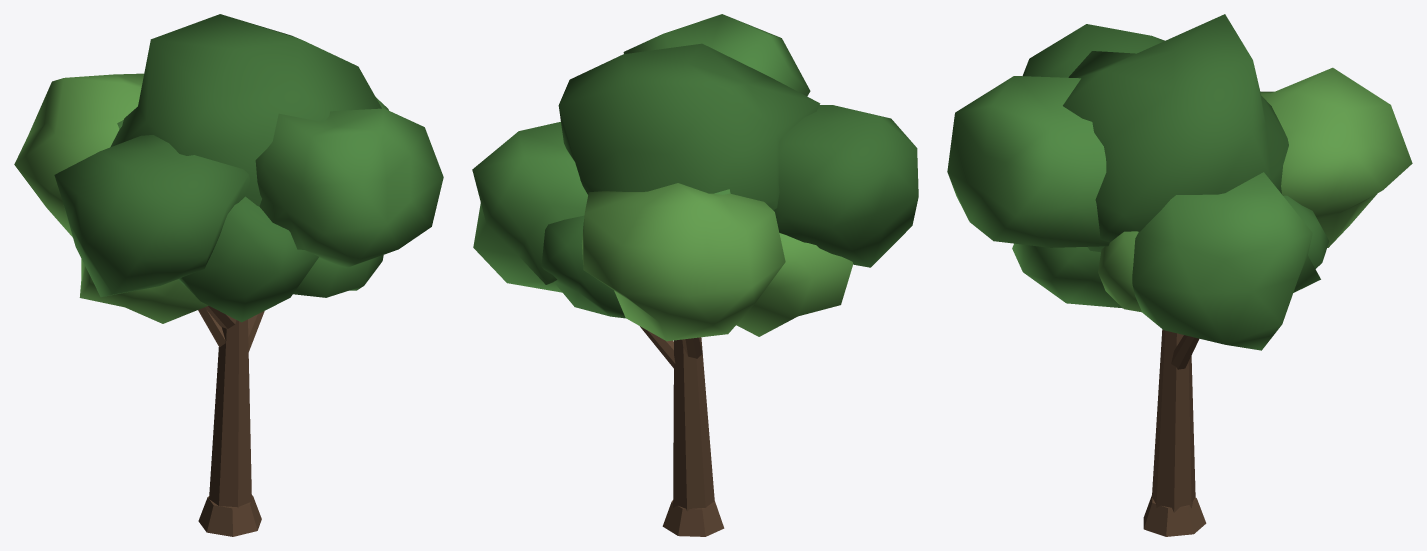
Rendered from tree.glb.
3 renders of one model, left to right at view 1: azimuth 30°, elevation 25°; view 2: azimuth 150°, elevation 25°; view 3: azimuth 270°, elevation 25°, orthographic. The views are drawn at different scales.
Parts seen in each view (by area): view 1: leaves_0, leaves_4, leaves_3, leaves_2, leaves_9, trunk, leaves_8, leaves_10, flare; view 2: leaves_0, leaves_2, leaves_3, leaves_1, leaves_8, trunk, leaves_4, leaves_6, flare; view 3: leaves_0, leaves_1, leaves_4, leaves_2, trunk, leaves_10, leaves_3, leaves_5, flare, leaves_6, limb_0.
Part boxes in pixels (left/top/right/bottom): leaves_0: left=110, top=14, right=381, bottom=206; leaves_4: left=255, top=108, right=443, bottom=268; leaves_3: left=54, top=135, right=250, bottom=297; leaves_2: left=14, top=73, right=143, bottom=237; leaves_9: left=178, top=196, right=318, bottom=322; trunk: left=209, top=319, right=251, bottom=507; leaves_8: left=79, top=259, right=208, bottom=323; leaves_10: left=293, top=255, right=383, bottom=297; flare: left=198, top=495, right=261, bottom=536; leaves_0: left=558, top=43, right=820, bottom=210; leaves_2: left=582, top=183, right=785, bottom=341; leaves_3: left=773, top=105, right=918, bottom=267; leaves_1: left=472, top=121, right=587, bottom=292; leaves_8: left=736, top=233, right=853, bottom=336; trunk: left=673, top=337, right=714, bottom=511; leaves_4: left=623, top=14, right=810, bottom=96; leaves_6: left=541, top=215, right=625, bottom=318; flare: left=662, top=500, right=724, bottom=536; leaves_0: left=1063, top=14, right=1288, bottom=252; leaves_1: left=1132, top=172, right=1320, bottom=350; leaves_4: left=947, top=76, right=1109, bottom=247; leaves_2: left=1260, top=67, right=1412, bottom=247; trunk: left=1152, top=329, right=1195, bottom=512; leaves_10: left=1012, top=243, right=1122, bottom=308; leaves_3: left=1022, top=24, right=1164, bottom=77; leaves_5: left=1098, top=231, right=1141, bottom=312; flare: left=1143, top=495, right=1206, bottom=536; leaves_6: left=1283, top=195, right=1329, bottom=268; limb_0: left=1171, top=335, right=1199, bottom=369.
Size of the model in its own units: 5.67 by 6.79 by 5.93.
